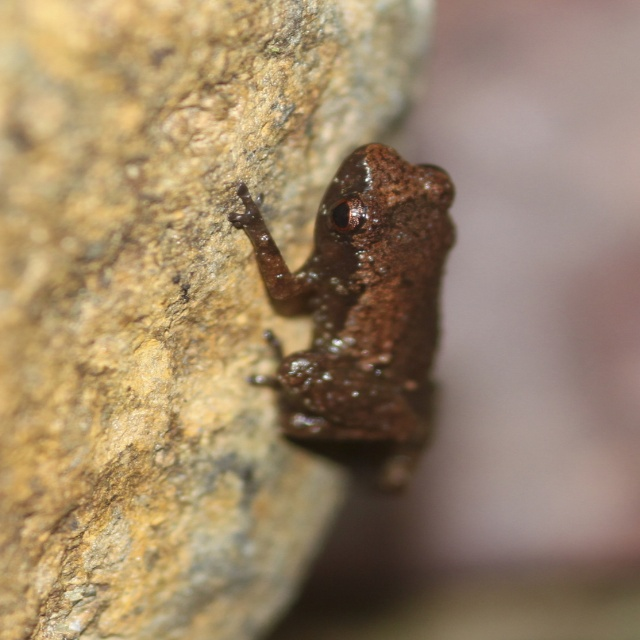Frog: (226, 145, 460, 497)
